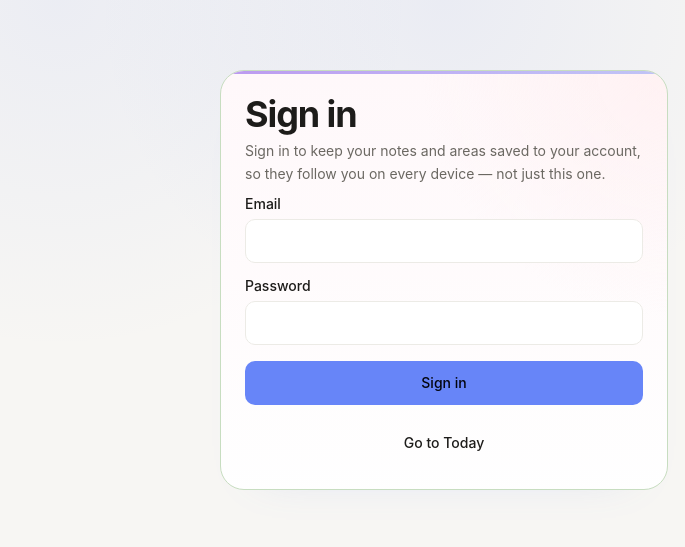
Test case: LoginPage › locks the form while sign-in is in flight and releases it on failure
In the field labelled "Email": (444, 241) x1=245 y1=219 x2=643 y2=263, type "user_a@example.test"
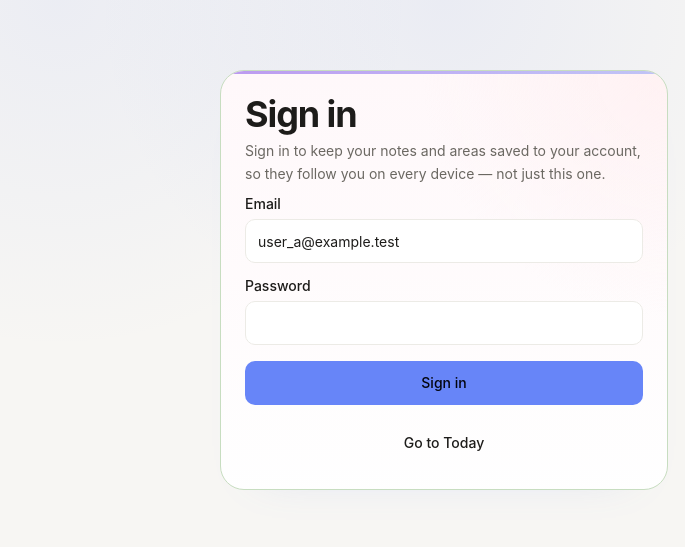
In the password field labelled "Password": (444, 323) x1=245 y1=301 x2=643 y2=345, type "password123"
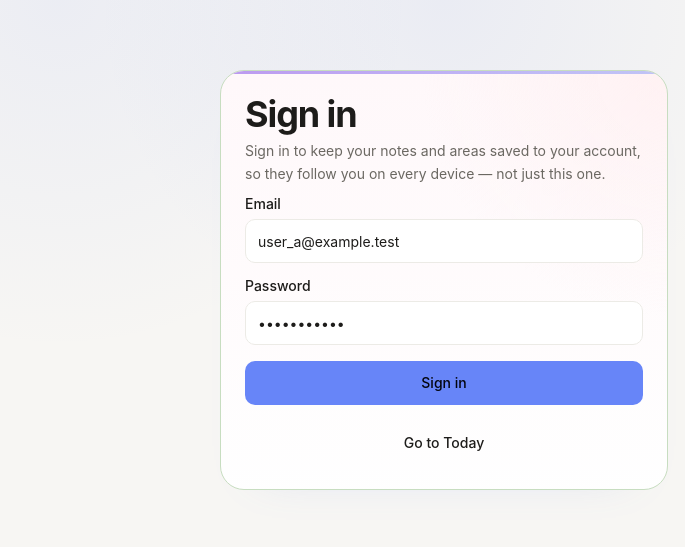
Click the button "Sign in": (444, 383) x1=245 y1=361 x2=643 y2=405
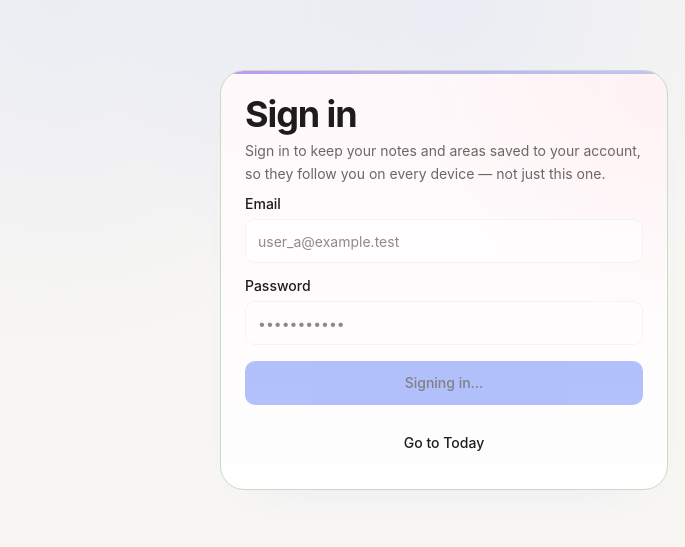
Expected: the button "Signing in..." is disabled
Expected: the field labelled "Email" is disabled, x1=245 y1=219 x2=643 y2=263
Expected: the password field labelled "Password" is disabled, x1=245 y1=301 x2=643 y2=345
Click the button "Signing in...": (444, 383) x1=245 y1=361 x2=643 y2=405
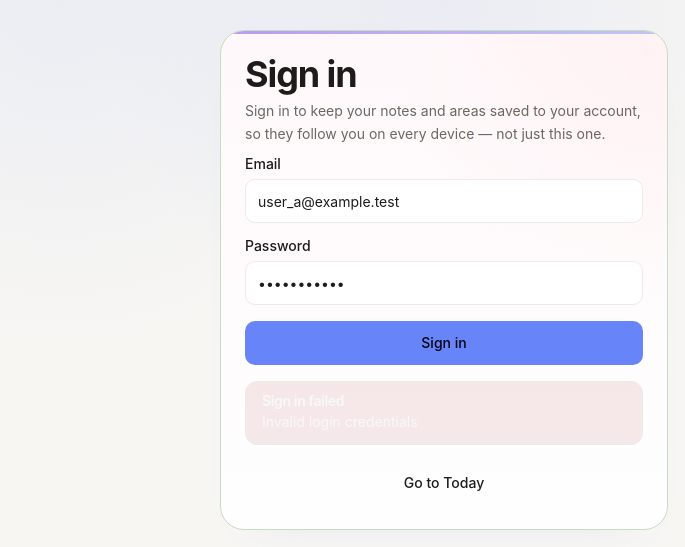
Expected: the button "Sign in" is enabled, x1=245 y1=321 x2=643 y2=365
Expected: the field labelled "Email" is enabled, x1=245 y1=179 x2=643 y2=223
Expected: the password field labelled "Password" is enabled, x1=245 y1=261 x2=643 y2=305
